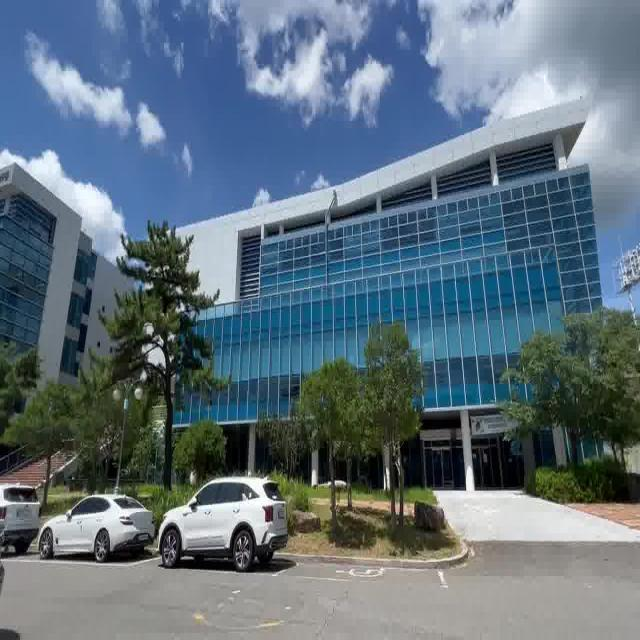building: (226, 97, 602, 398)
